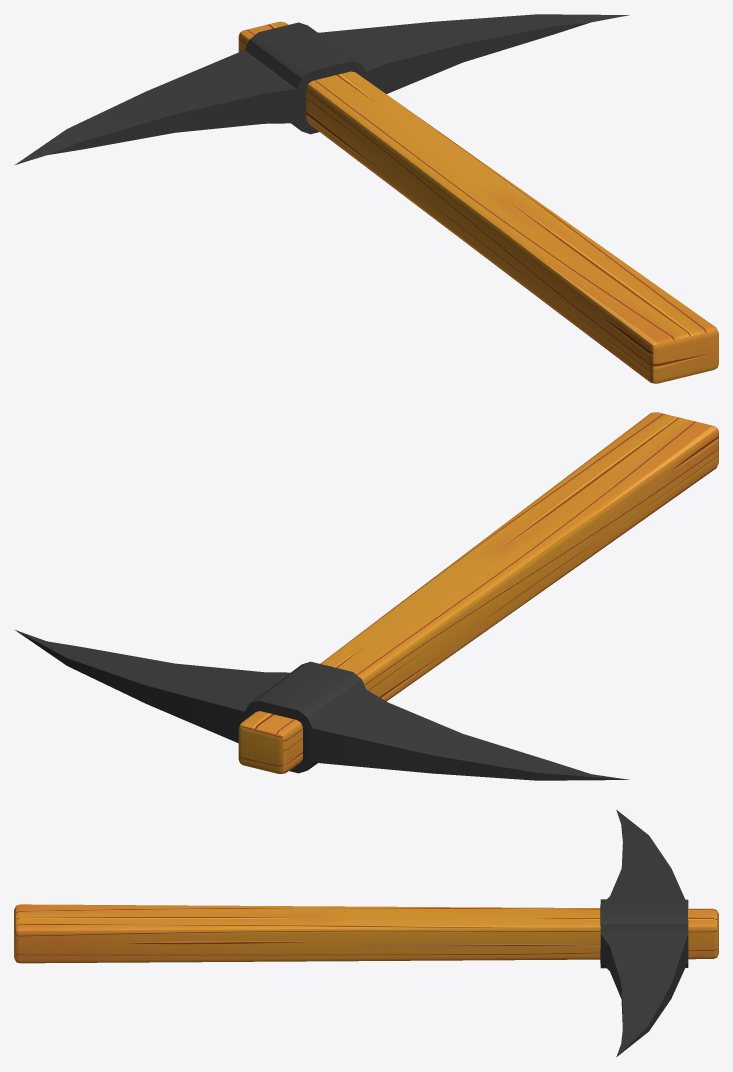
Rendered from Coincraft_Axe.fbx.
3 renders of one model, top to bottom at view 1: azimuth 30°, elevation 25°; view 2: azimuth 150°, elevation 25°; view 3: azimuth 270°, elevation 25°, orthographic. The views are drawn at different scales.
Parts seen in each view (by area): view 1: Axe; view 2: Axe; view 3: Axe.
Boxes of the visible parts, left/top/right/bottom form: Axe: left=14, top=14, right=718, bottom=383; Axe: left=15, top=412, right=718, bottom=780; Axe: left=14, top=810, right=718, bottom=1056.
Bounding box in the file's own units: 160 × 15.61 × 192.
2 materials, 1 textured.
